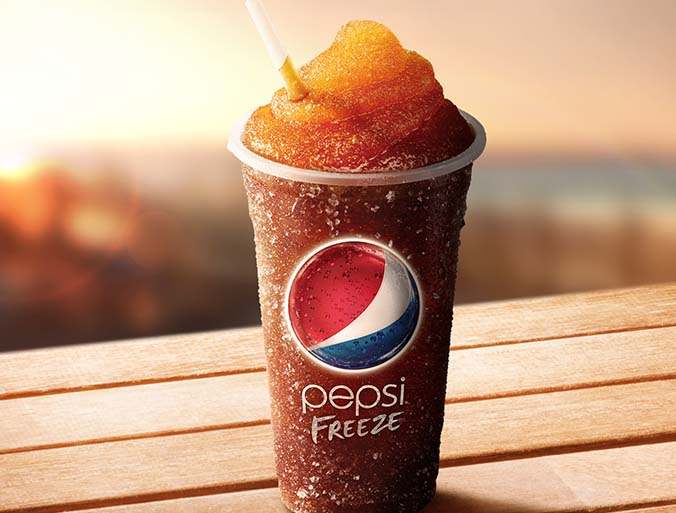pepsi: (284, 235, 421, 374)
